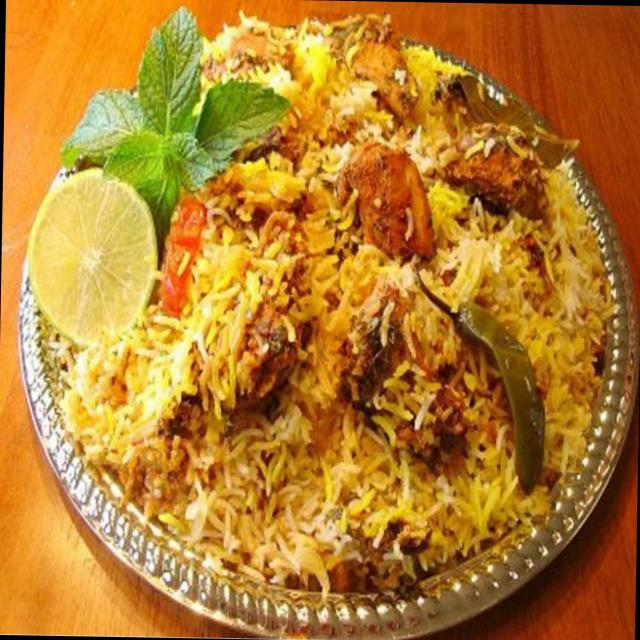Biryani: (24, 5, 626, 602)
